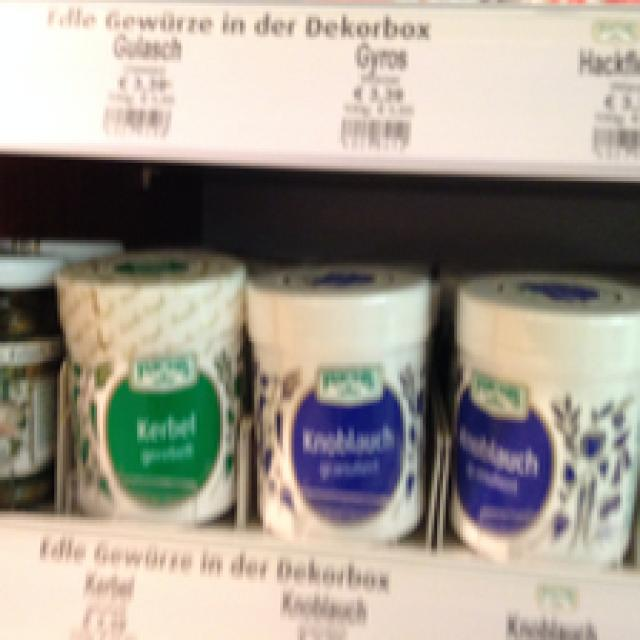groceries: (443, 266, 637, 563), (237, 257, 429, 540), (55, 246, 232, 517)
